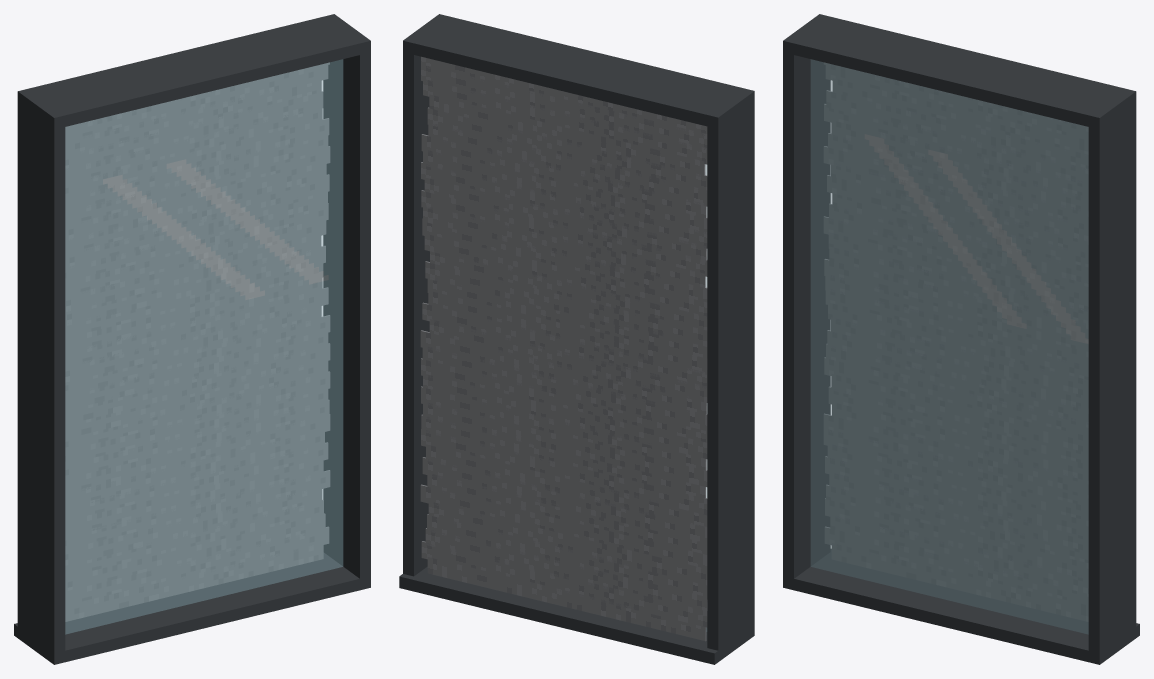
The model's file is t_window_taped.glb.
The picture shows the model from 3 angles, left to right: view 1: azimuth 30°, elevation 25°; view 2: azimuth 150°, elevation 25°; view 3: azimuth 330°, elevation 25°; orthographic projection.
Visible parts, largest first — view 1: block_sheet, block_stile-1, block_stile1, block_lintel, block_sill, block_tape27, block_tape30, block_tape0, block_tape22, block_tape15, block_tape18, block_tape8 (+28 smaller); view 2: block_stile-1, block_lintel, block_stile1, block_sill, block_tape11, block_tape21, block_tape29, block_tape31, block_tape7, block_tape25, block_tape0, block_tape15 (+29 smaller); view 3: block_sheet, block_stile1, block_stile-1, block_lintel, block_sill, block_tape20, block_tape12, block_tape0, block_tape3, block_tape6, block_tape9, block_tape32 (+28 smaller).
Part boxes in pixels (x1=…): block_sheet: x1=65, y1=59, x2=343, y2=634; block_stile-1: x1=17, y1=89, x2=65, y2=664; block_stile1: x1=323, y1=14, x2=370, y2=590; block_lintel: x1=17, y1=14, x2=370, y2=129; block_sill: x1=14, y1=553, x2=370, y2=664; block_tape27: x1=65, y1=161, x2=326, y2=240; block_tape30: x1=65, y1=118, x2=329, y2=198; block_tape0: x1=65, y1=543, x2=323, y2=621; block_tape22: x1=65, y1=233, x2=321, y2=311; block_tape15: x1=65, y1=330, x2=328, y2=410; block_tape18: x1=65, y1=287, x2=328, y2=366; block_tape8: x1=65, y1=430, x2=324, y2=507; block_stile-1: x1=707, y1=88, x2=754, y2=661; block_lintel: x1=403, y1=14, x2=754, y2=128; block_stile1: x1=403, y1=14, x2=443, y2=576; block_sill: x1=399, y1=566, x2=754, y2=664; block_tape11: x1=423, y1=402, x2=707, y2=486; block_tape21: x1=425, y1=261, x2=707, y2=346; block_tape29: x1=423, y1=149, x2=707, y2=234; block_tape31: x1=428, y1=122, x2=707, y2=206; block_tape7: x1=422, y1=457, x2=707, y2=543; block_tape25: x1=423, y1=206, x2=705, y2=288; block_tape0: x1=427, y1=557, x2=706, y2=641; block_tape15: x1=422, y1=345, x2=707, y2=430; block_sheet: x1=810, y1=59, x2=1088, y2=634; block_stile1: x1=1088, y1=90, x2=1136, y2=664; block_stile-1: x1=783, y1=14, x2=830, y2=590; block_lintel: x1=783, y1=14, x2=1136, y2=129; block_sill: x1=783, y1=549, x2=1139, y2=664; block_tape20: x1=824, y1=259, x2=1088, y2=339; block_tape12: x1=831, y1=374, x2=1088, y2=452; block_tape0: x1=831, y1=543, x2=1088, y2=621; block_tape3: x1=825, y1=498, x2=1088, y2=579; block_tape6: x1=825, y1=456, x2=1088, y2=537; block_tape9: x1=823, y1=413, x2=1088, y2=494; block_tape32: x1=826, y1=90, x2=1088, y2=169.
Size of the model in its own units: 1 by 1.65 by 0.22.
Materials: 3 (3 with a texture image).
